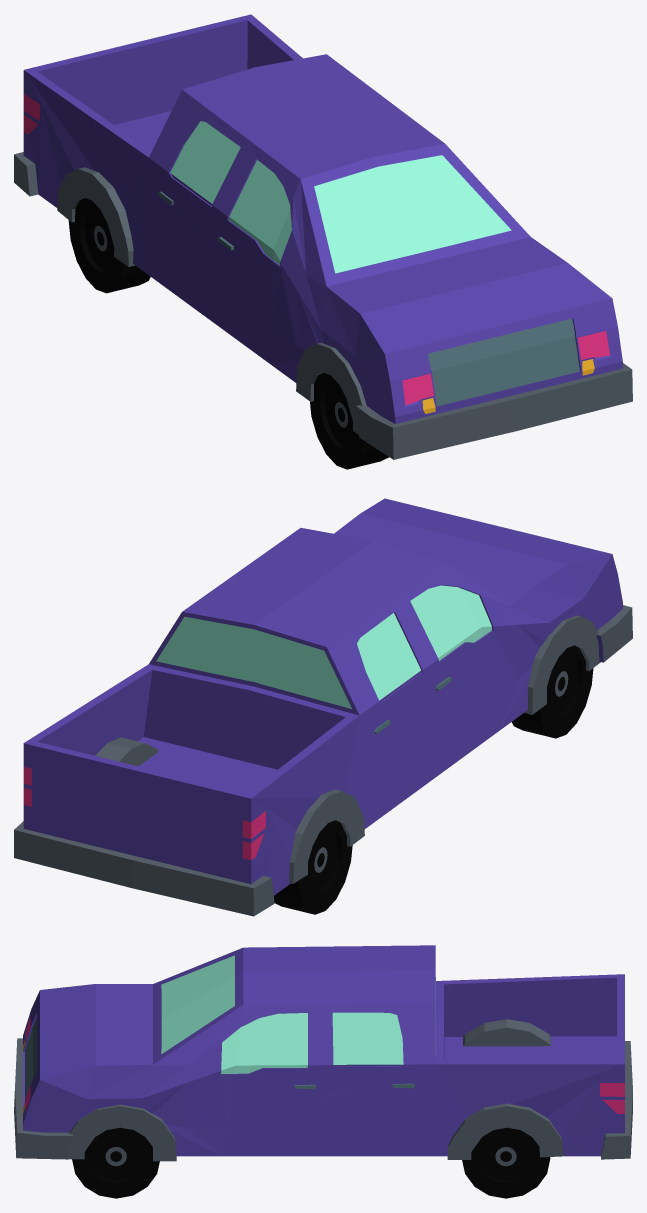
File: PickUpTruck.fbx_PurpleTruck.fbx
3 renders of one model, top to bottom at view 1: azimuth 30°, elevation 25°; view 2: azimuth 150°, elevation 25°; view 3: azimuth 270°, elevation 25°, orthographic. The views are drawn at different scales.
Parts seen in each view (by area): view 1: PurpleTruck; view 2: PurpleTruck; view 3: PurpleTruck.
Part boxes in pixels (bbox=[...]): PurpleTruck: bbox=[14, 14, 632, 469]; PurpleTruck: bbox=[14, 498, 632, 916]; PurpleTruck: bbox=[14, 945, 632, 1198].
Bounding box in the file's own units: 581 × 190 × 215.
